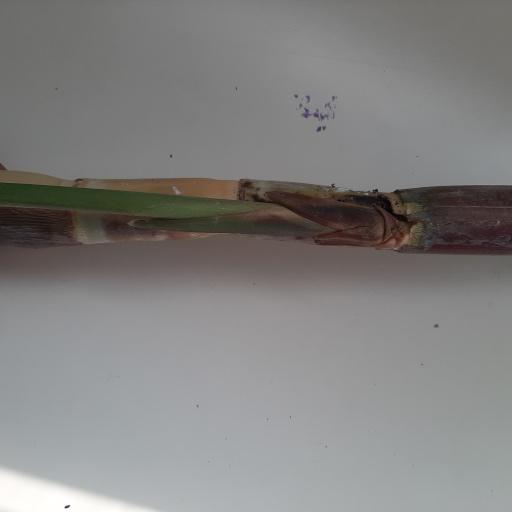Sprouted_Bud: (304, 218, 414, 247)
